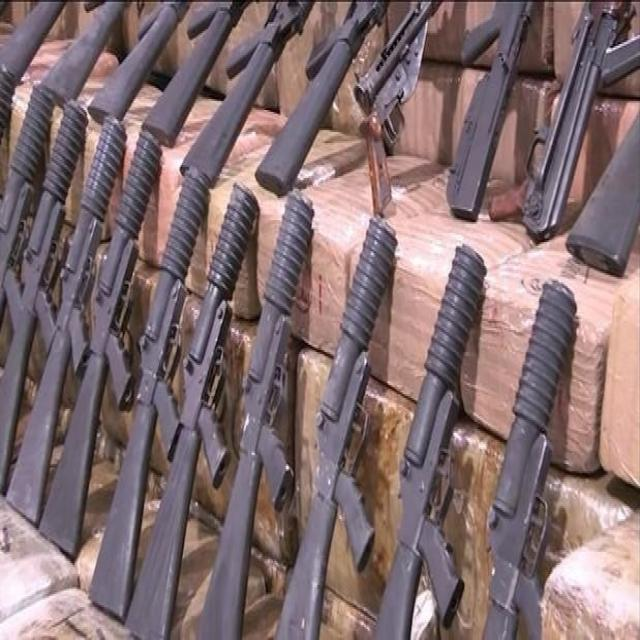firearm: (491, 0, 629, 239), (350, 0, 454, 213)
rocket: (122, 185, 258, 640), (195, 190, 315, 640), (272, 214, 396, 640), (40, 134, 162, 560), (90, 168, 207, 610), (375, 245, 487, 640), (482, 276, 578, 640), (0, 108, 91, 481)
